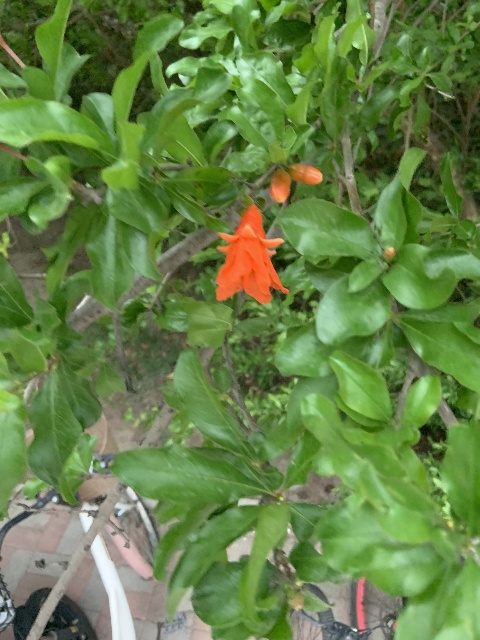bud: (287, 163, 322, 184), (269, 169, 290, 202)
flower: (214, 203, 288, 304)
